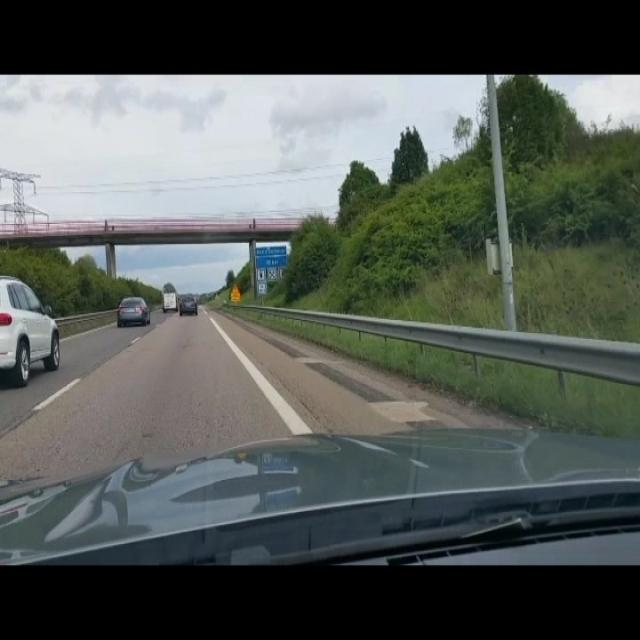indication: (255, 246, 287, 271)
